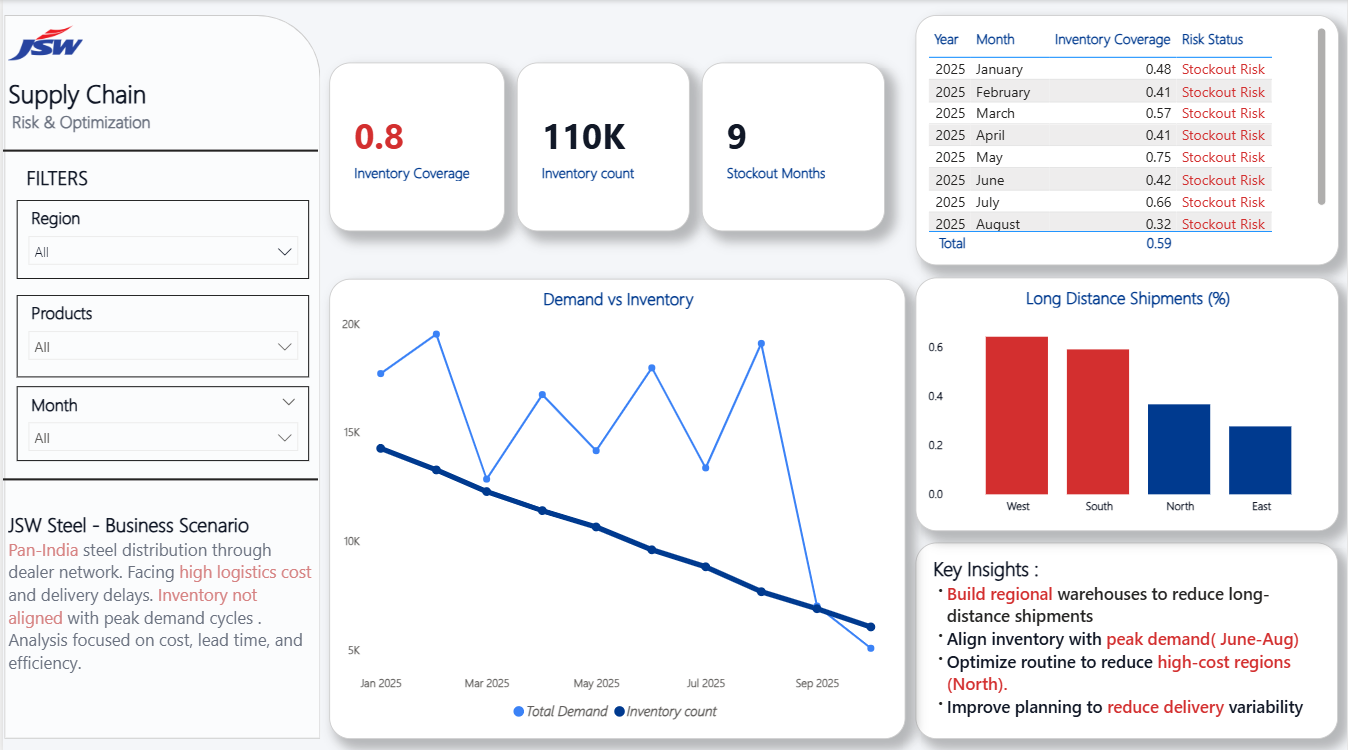

This screenshot's page, from the dashboard's own definition file:
{"tool":"powerbi","page":{"name":"Risk & Optimization","canvas":[1280,720],"ordinal":2},"visuals":[{"type":"shape","box":[1.2,14.3,301.2,689.3],"z":2000},{"type":"textbox","box":[0,67.9,301.2,83.3],"z":3000},{"type":"image","box":[0,14.3,81,53.6],"z":4000},{"type":"textbox","box":[869.1,516.7,402.4,186.9],"z":5000},{"type":"shape","box":[0,135.7,300,15.5],"z":6000},{"type":"slicer","fields":{"Values":["dealer_master.region"]},"box":[13.1,190.5,278.6,75],"z":7000},{"type":"slicer","fields":{"Values":["product_master.product_name"]},"box":[13.1,281,278.6,78.6],"z":8000},{"type":"slicer","fields":{"Values":["Date_Table.Month Start"]},"box":[13.1,367.9,278.6,71.4],"z":9000},{"type":"textbox","box":[13.1,151.2,278.6,34.5],"z":10000},{"type":"textbox","box":[0,464.3,301.2,239.3],"z":11000},{"type":"shape","box":[0,448.8,300,15.5],"z":12000},{"type":"cardVisual","fields":{"Data":["inventory_snapshots.Inventory Coverage"]},"box":[310.1,59,167.4,160.5],"z":12001},{"type":"lineChart","title":"Demand vs Inventory","fields":{"Y":["historical_orders.Total Demand","inventory_snapshots.Inventory count"],"Category":["Date_Table.Month Start.Variation.Date Hierarchy.Year","Date_Table.Month Start.Variation.Date Hierarchy.Quarter","Date_Table.Month Start.Variation.Date Hierarchy.Month","Date_Table.Month Start.Variation.Date Hierarchy.Day"]},"box":[310.7,265.5,548.8,438.1],"z":12002},{"type":"cardVisual","fields":{"Data":["inventory_snapshots.Inventory count"]},"box":[489.9,59,164.7,160.5],"z":12003},{"type":"cardVisual","fields":{"Data":["inventory_snapshots.Stockout Months"]},"box":[665.5,59,174.3,160.5],"z":12004},{"type":"tableEx","fields":{"Values":["Date_Table.Month Start.Variation.Date Hierarchy.Year","Date_Table.Month Start.Variation.Date Hierarchy.Month","inventory_snapshots.Inventory Coverage","inventory_snapshots.Risk Status"]},"box":[868.6,13.7,403.4,238.8],"z":12005},{"type":"columnChart","title":"Long Distance Shipments (%)","fields":{"Category":["dealer_master.region"],"Y":["shipments.Long Distance %"]},"box":[868.6,264.8,403.4,241.5],"z":12006}]}

Visuals, with their boxes in screenshot pixels (x1, y1, x2, y2), scaled from the page's 1280x720 canvas onto the 1348x750 screenshot:
shape: Rect(1, 15, 318, 733)
textbox: Rect(0, 71, 317, 158)
image: Rect(0, 15, 85, 71)
textbox: Rect(915, 538, 1339, 733)
shape: Rect(0, 141, 316, 158)
slicer - dealer_master.region: Rect(14, 198, 307, 277)
slicer - product_master.product_name: Rect(14, 293, 307, 375)
slicer - Date_Table.Month Start: Rect(14, 383, 307, 458)
textbox: Rect(14, 158, 307, 193)
textbox: Rect(0, 484, 317, 733)
shape: Rect(0, 468, 316, 484)
cardVisual - inventory_snapshots.Inventory Coverage: Rect(327, 61, 503, 229)
"Demand vs Inventory" lineChart: Rect(327, 277, 905, 733)
cardVisual - inventory_snapshots.Inventory count: Rect(516, 61, 689, 229)
cardVisual - inventory_snapshots.Stockout Months: Rect(701, 61, 884, 229)
tableEx - Date_Table.Month Start.Variation.Date Hierarchy.Year x Date_Table.Month Start.Variation.Date Hierarchy.Month: Rect(915, 14, 1340, 263)
"Long Distance Shipments (%)" columnChart: Rect(915, 276, 1340, 527)
